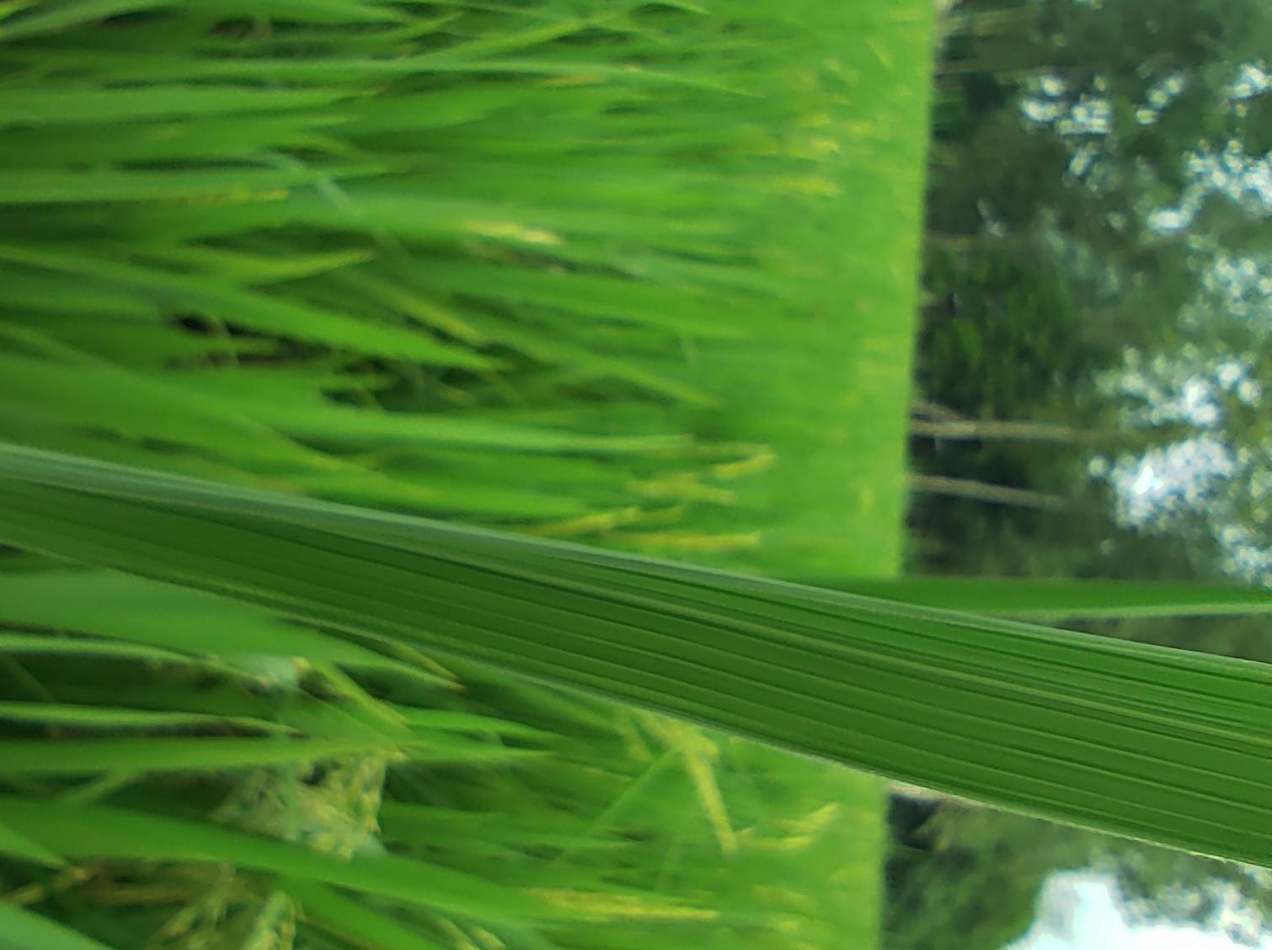Healthy: (1, 444, 1271, 863)
